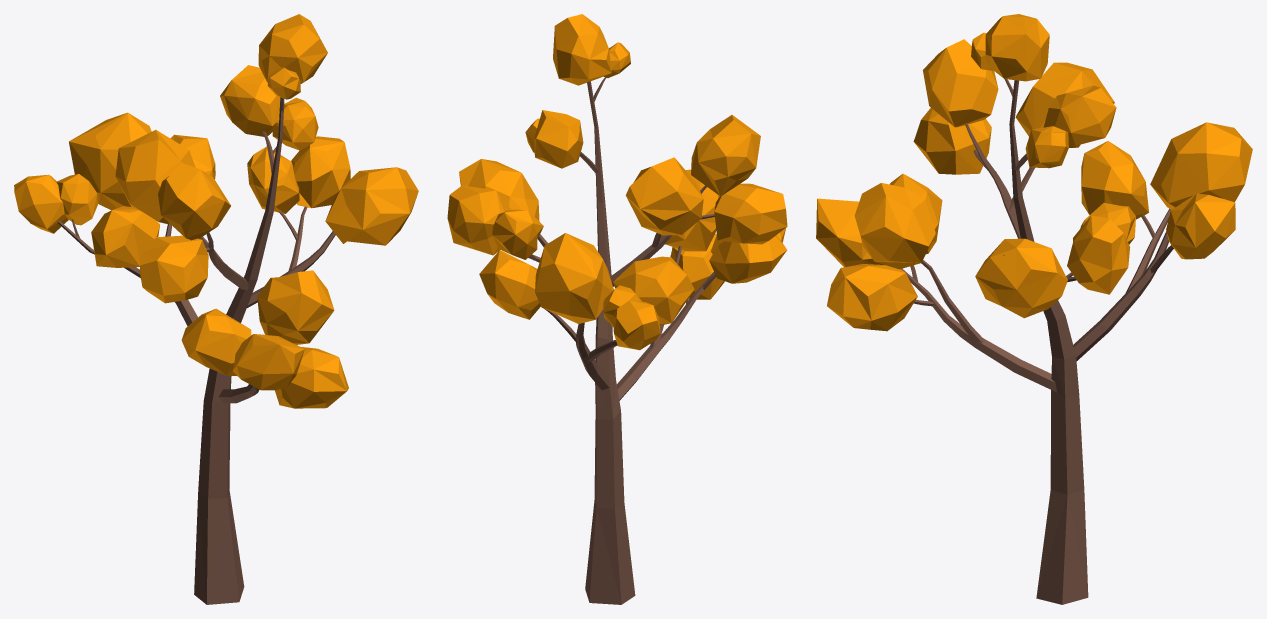
The model's file is fall_tree_v1.glb.
The picture shows the model from 3 angles, left to right: view 1: azimuth 30°, elevation 25°; view 2: azimuth 150°, elevation 25°; view 3: azimuth 270°, elevation 25°; orthographic projection. The views are drawn at different scales.
Parts seen in each view (by area): view 1: Node; view 2: Node; view 3: Node.
Boxes of the visible parts, bbox=[...] form: Node: bbox=[14, 14, 418, 604]; Node: bbox=[447, 14, 787, 604]; Node: bbox=[816, 14, 1252, 604].
Bounding box in the file's own units: 1.88 × 3.35 × 2.18.
